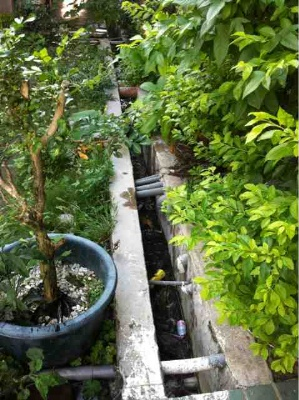bottle: (176, 318, 186, 336)
